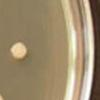white: (10, 41, 29, 62)
